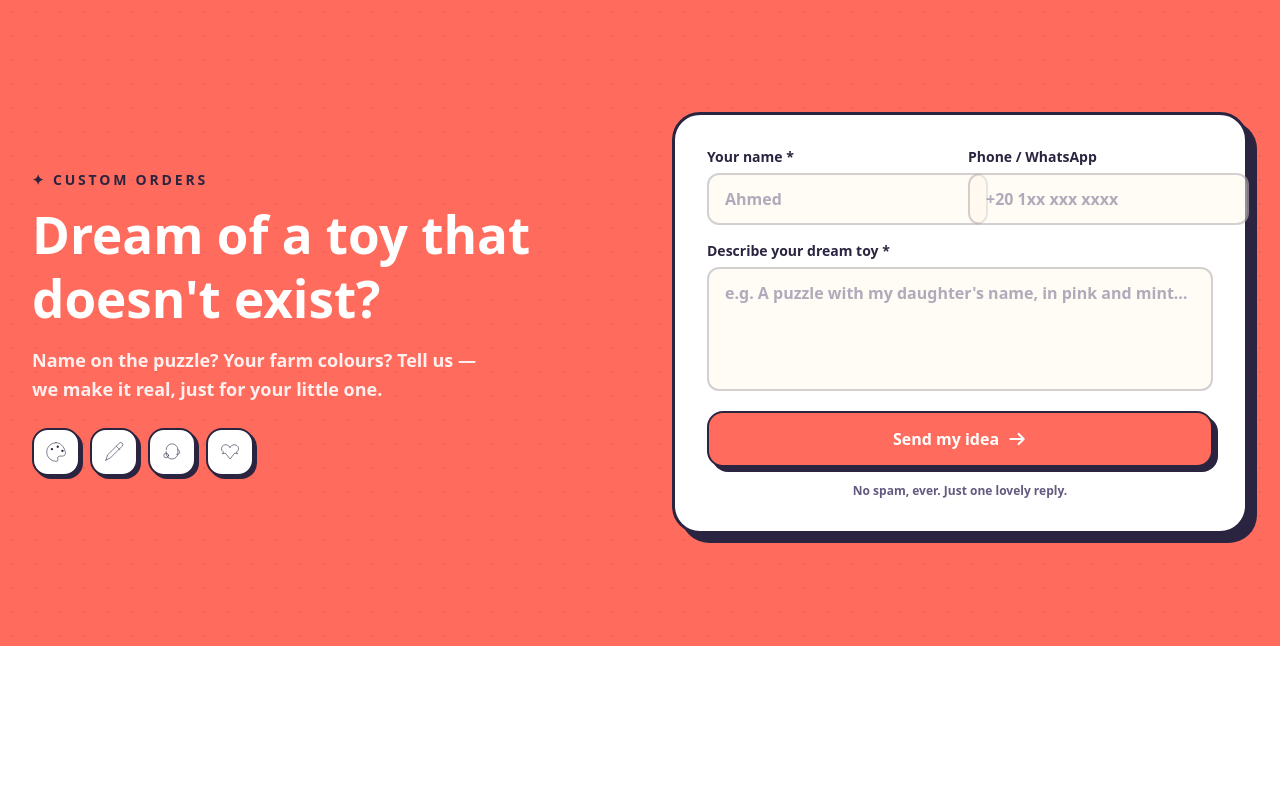
Test: <CustomCta /> › shows an error when required fields are empty
Click the button "Send my idea": [960, 439] box [707, 411, 1213, 467]
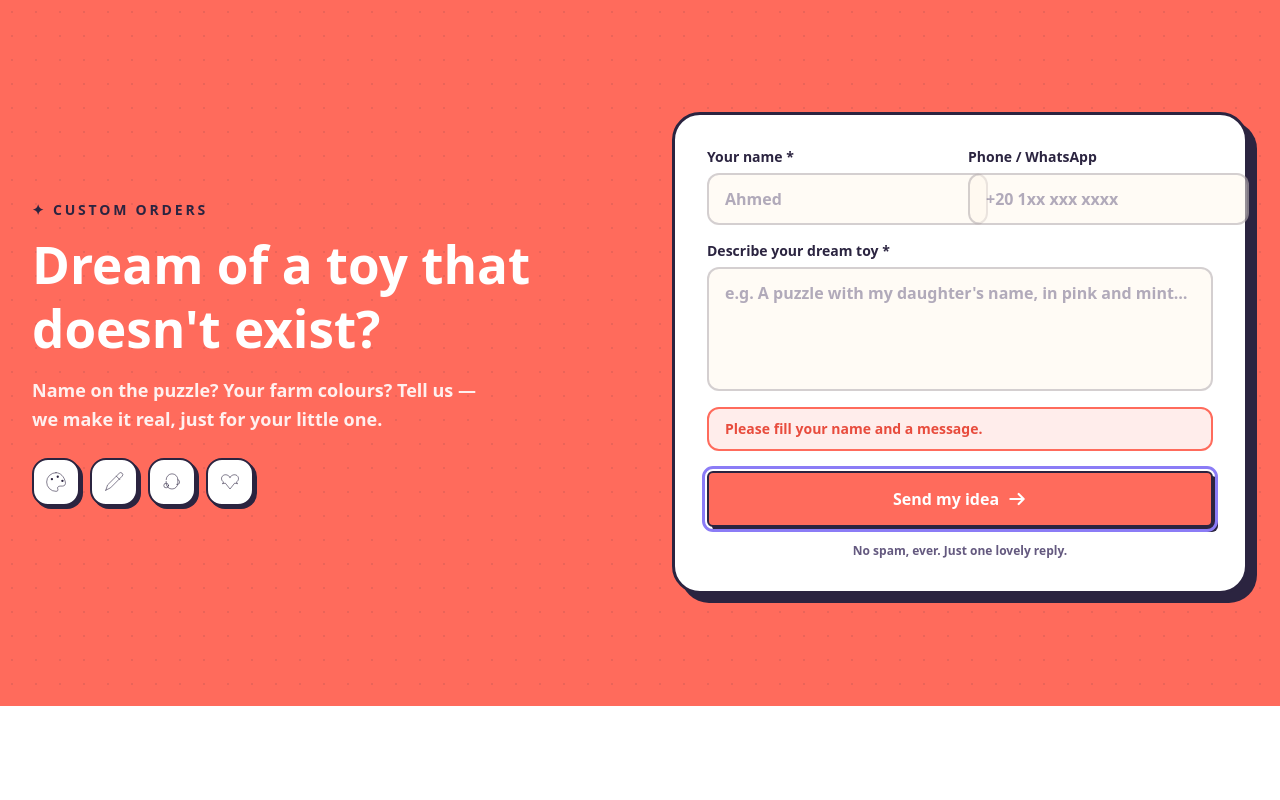
Result: the message reads "Please fill your name and a message." at [725, 419, 982, 438]
